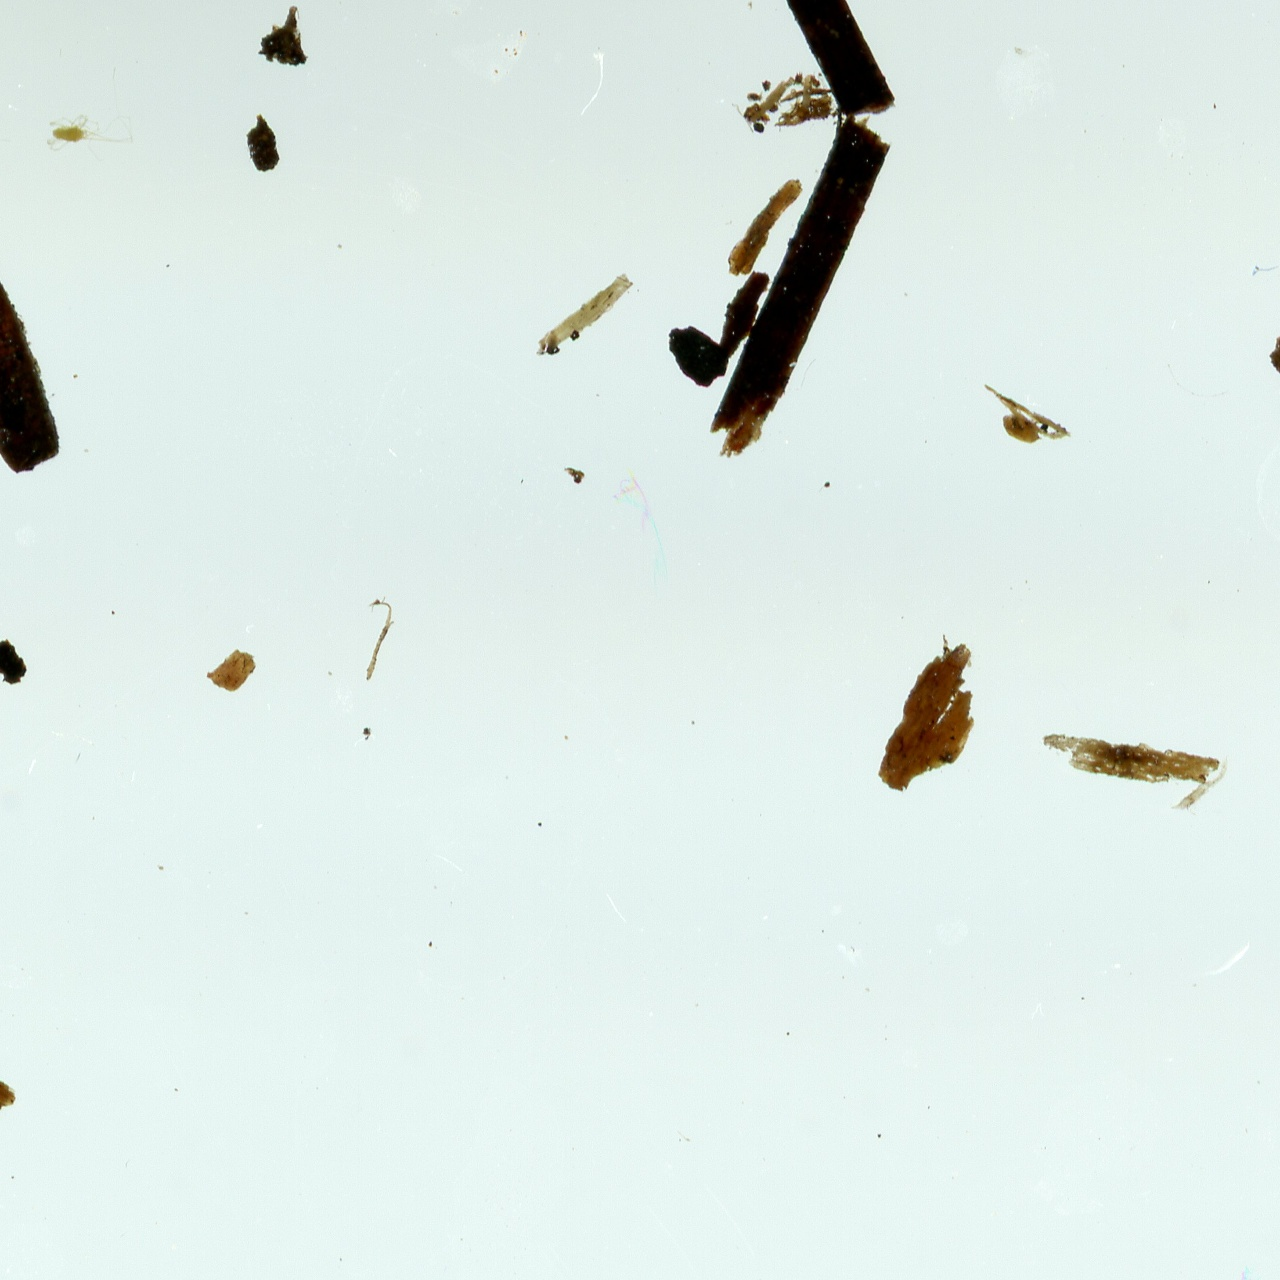arthropod: (42, 111, 137, 164)
